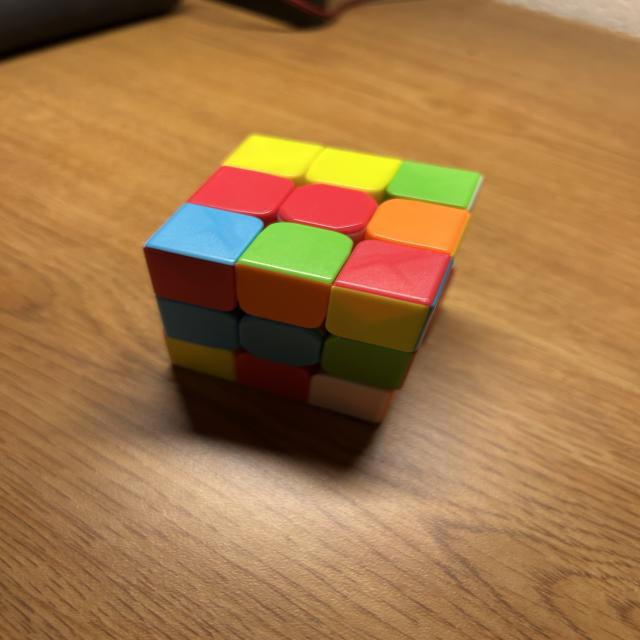Rubiks Cube: (142, 134, 481, 425)
